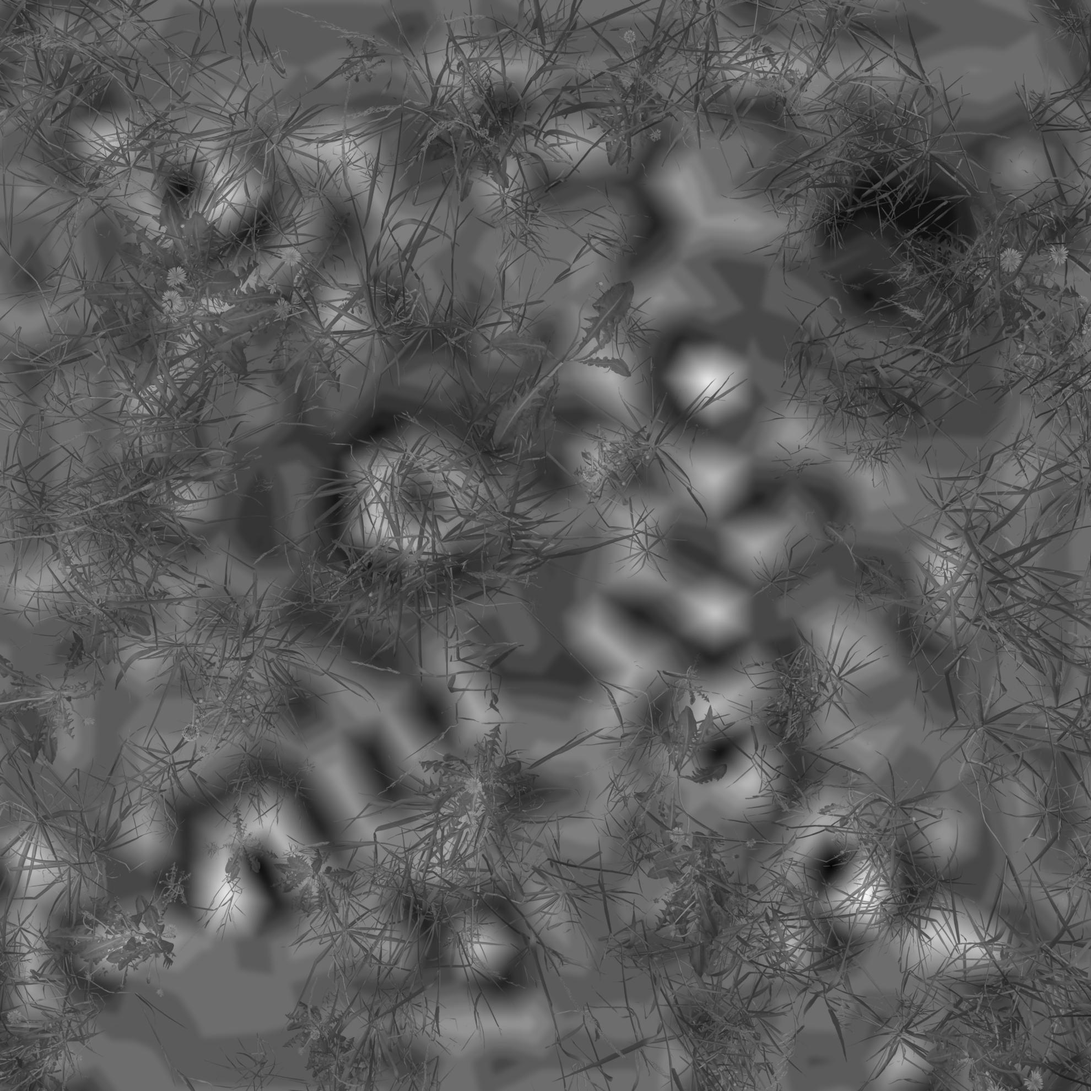landmine: (313, 417, 507, 589), (819, 159, 979, 313)
